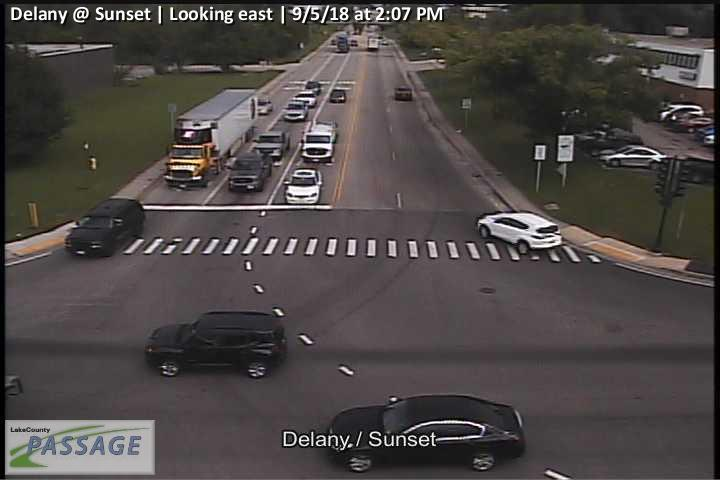SUV: (329, 394, 526, 472), (144, 313, 288, 379), (65, 198, 143, 257), (476, 210, 563, 254), (224, 152, 272, 191), (301, 130, 335, 164), (252, 131, 289, 161)
Sedan: (284, 167, 323, 204), (310, 120, 336, 141), (283, 99, 308, 119), (294, 90, 317, 107), (394, 85, 412, 100), (256, 98, 272, 114), (304, 80, 321, 94), (329, 90, 345, 103)
Truck: (163, 89, 259, 190), (334, 33, 350, 52), (368, 33, 379, 50)
